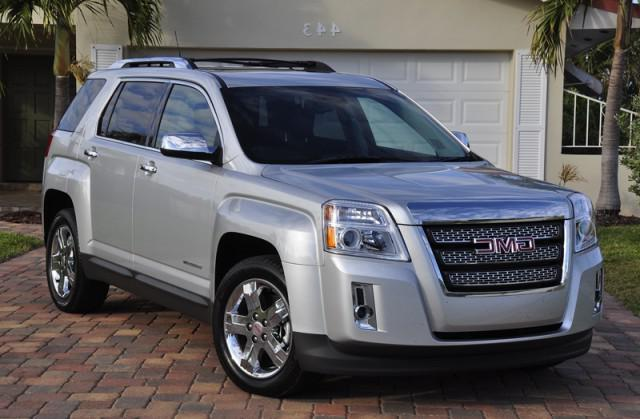Car: (22, 34, 618, 402)
